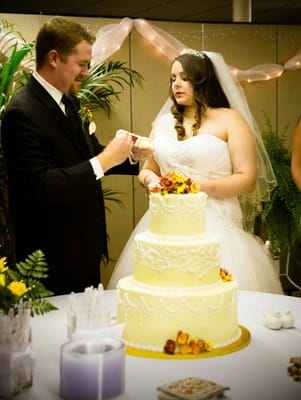pizza: (59, 335, 126, 400)
